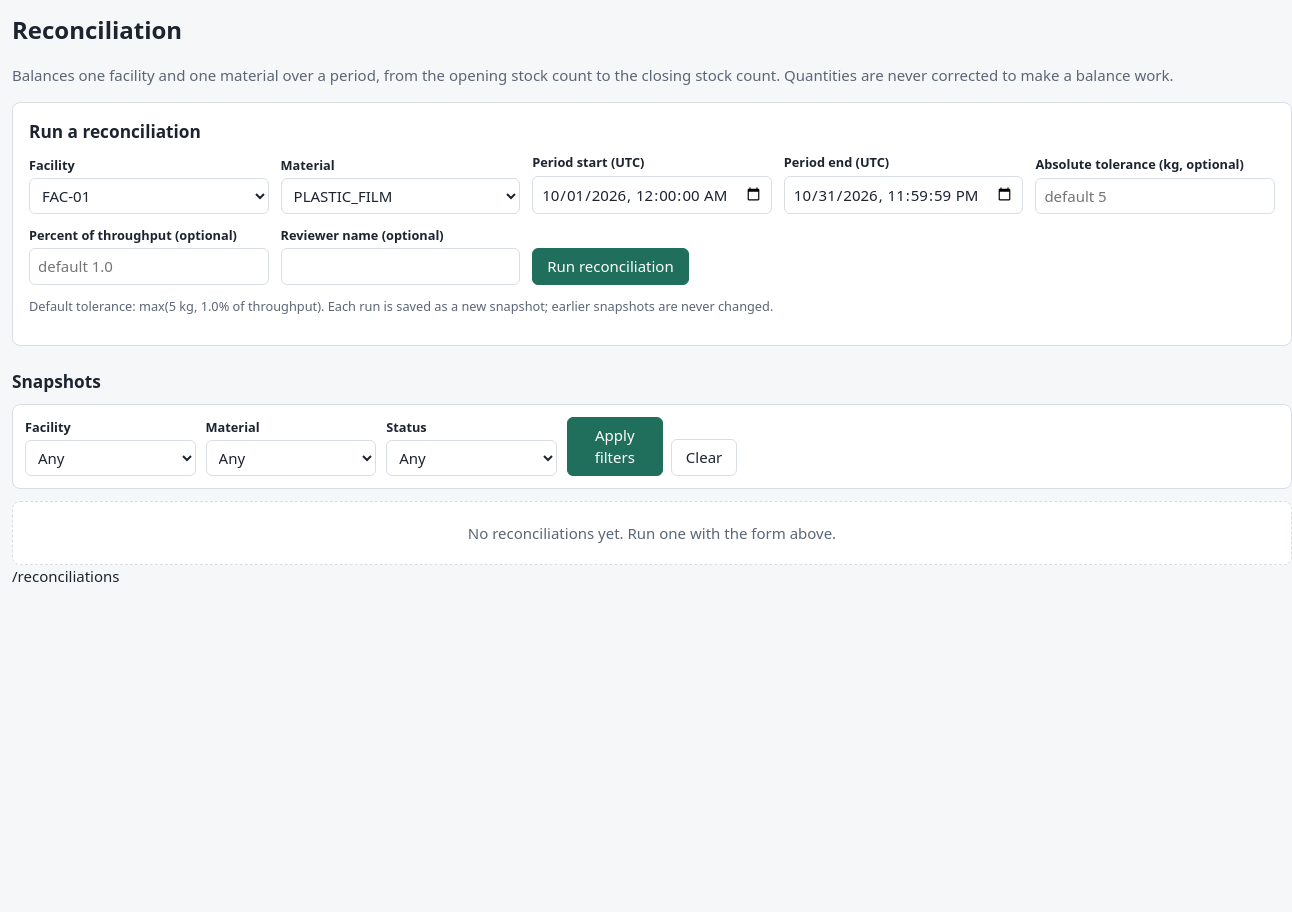
Reconciliation form › shows the API's validation message
Click the button "Run reconciliation" at (610, 266), box left=532, top=248, right=689, bottom=285
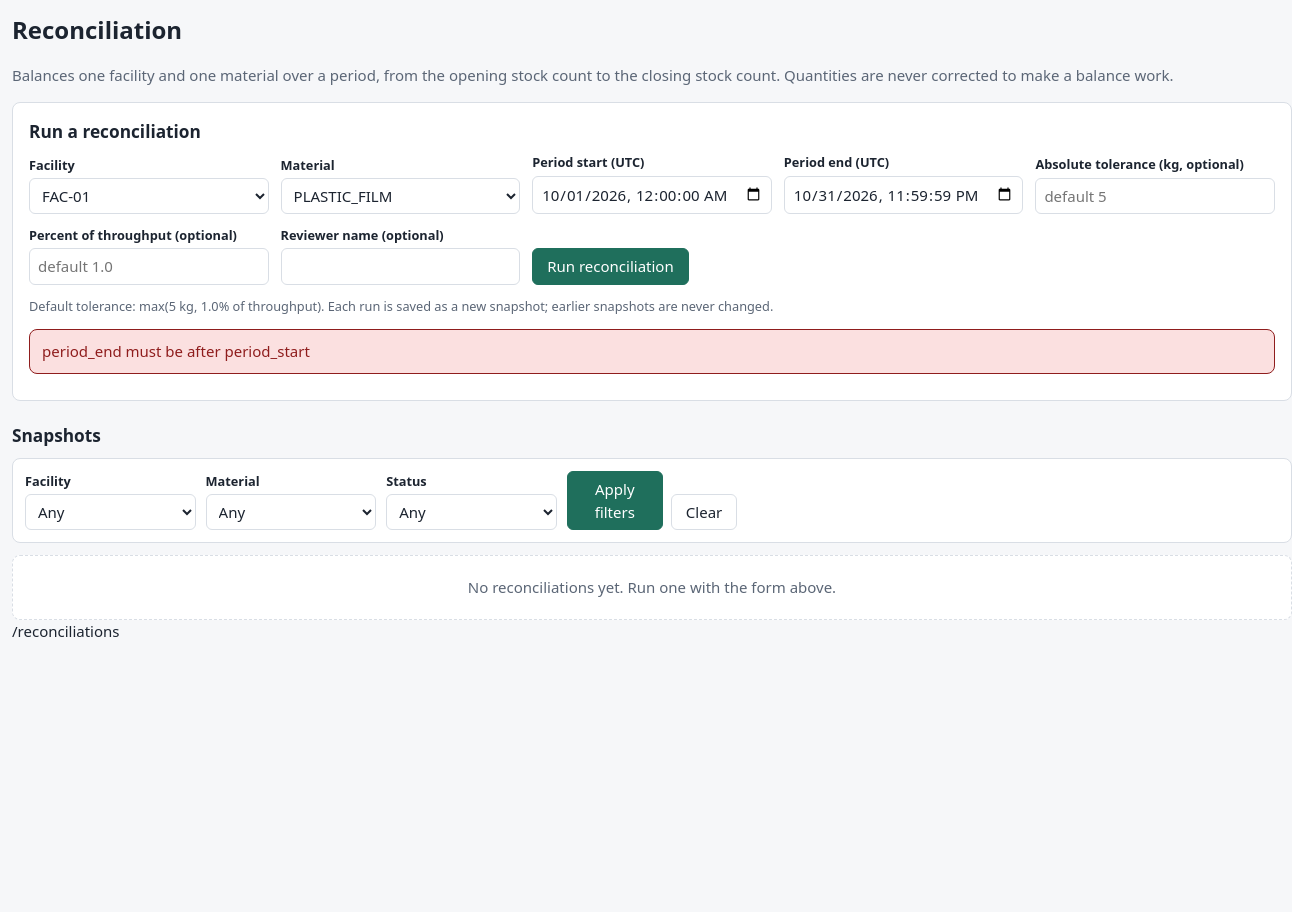
Check: the message reads "period_end must be after period_start", box left=42, top=341, right=310, bottom=361
